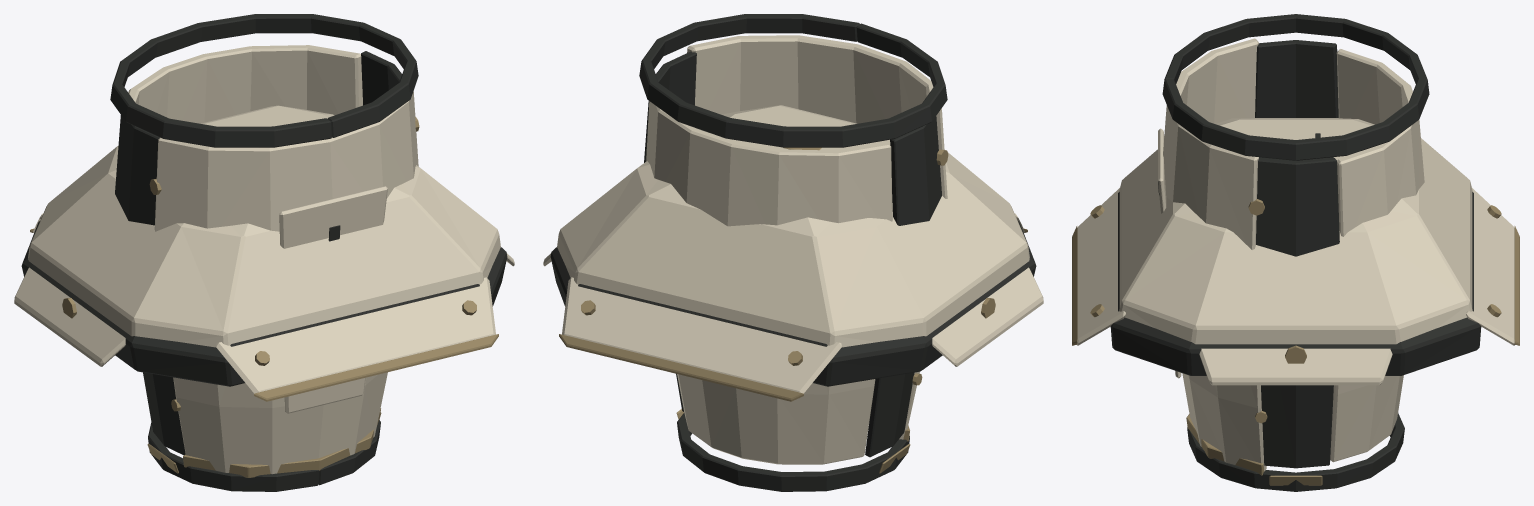
Rendered from field-armor.glb.
3 renders of one model, left to right at view 1: azimuth 30°, elevation 25°; view 2: azimuth 150°, elevation 25°; view 3: azimuth 270°, elevation 25°, orthographic. The views are drawn at different scales.
Parts seen in each view (by area): view 1: forearm_guard, pauldron; view 2: pauldron, forearm_guard; view 3: pauldron, forearm_guard.
Boxes of the visible parts, <box> form: forearm_guard: <box>110,14,419,491</box>; pauldron: <box>14,105,514,401</box>; pauldron: <box>543,105,1043,401</box>; forearm_guard: <box>639,14,948,491</box>; pauldron: <box>1072,118,1519,385</box>; forearm_guard: <box>1158,14,1429,491</box>.
Bounding box in the file's own units: 1.14 × 0.987 × 1.1.
